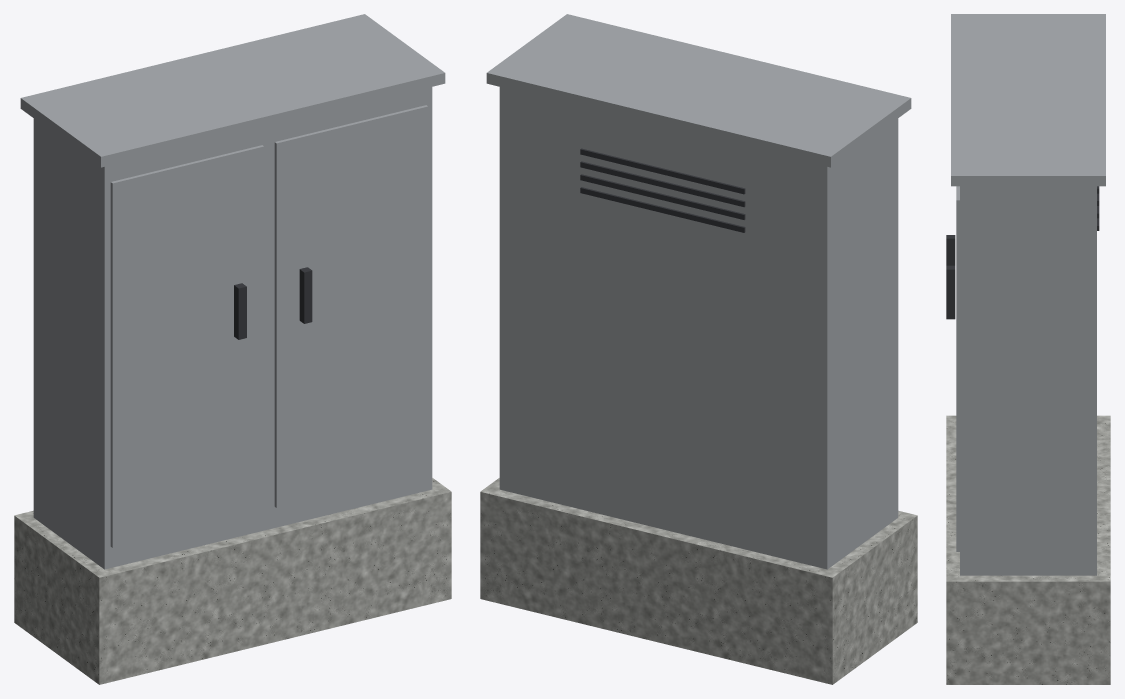
3 renders of one model, left to right at view 1: azimuth 30°, elevation 25°; view 2: azimuth 150°, elevation 25°; view 3: azimuth 270°, elevation 25°, orthographic. The views are drawn at different scales.
Visible parts, largest first — view 1: baseOffset=0;depth=0.3;height=1.2;material=steel_galv;power= (×3); view 2: baseOffset=0;depth=0.3;height=1.2;material=steel_galv;power= (×3); view 3: baseOffset=0;depth=0.3;height=1.2;material=steel_galv;power= (×3).
Boxes of the visible parts, x1,y1,x2,y2 form: baseOffset=0;depth=0.3;height=1.2;material=steel_galv;power= (×3): [14, 14, 451, 684]; baseOffset=0;depth=0.3;height=1.2;material=steel_galv;power= (×3): [480, 14, 917, 684]; baseOffset=0;depth=0.3;height=1.2;material=steel_galv;power= (×3): [946, 14, 1110, 684].
Size of the model in its own units: 0.86 by 0.36 by 1.23.
3 materials, 1 textured.
